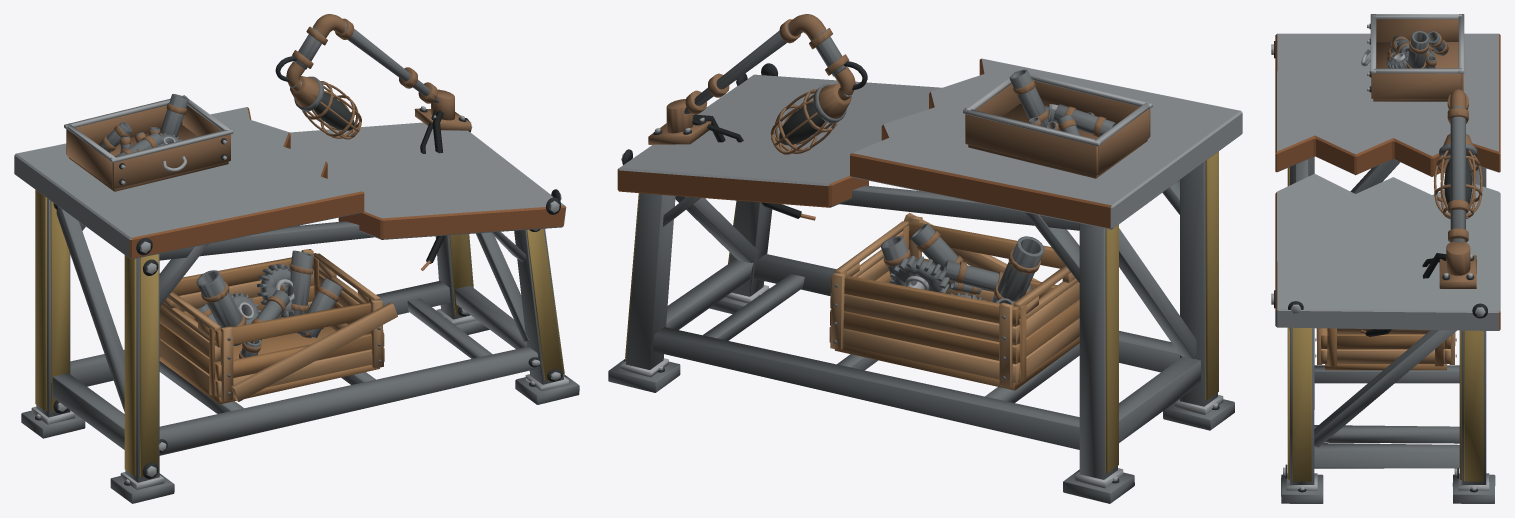
The model's file is WorkbenchBroken.fbx.
3 views of the same model, side by side, from view 1: azimuth 30°, elevation 25°; view 2: azimuth 150°, elevation 25°; view 3: azimuth 270°, elevation 25° (orthographic). The views are drawn at different scales.
Visible parts, largest first — view 1: WorkbenchBroken; view 2: WorkbenchBroken; view 3: WorkbenchBroken.
Part boxes in pixels (x1=…): WorkbenchBroken: x1=14, y1=14, x2=579, y2=503; WorkbenchBroken: x1=608, y1=14, x2=1242, y2=503; WorkbenchBroken: x1=1271, y1=14, x2=1500, y2=503.
Bounding box in the file's own units: 480 × 357 × 219.
